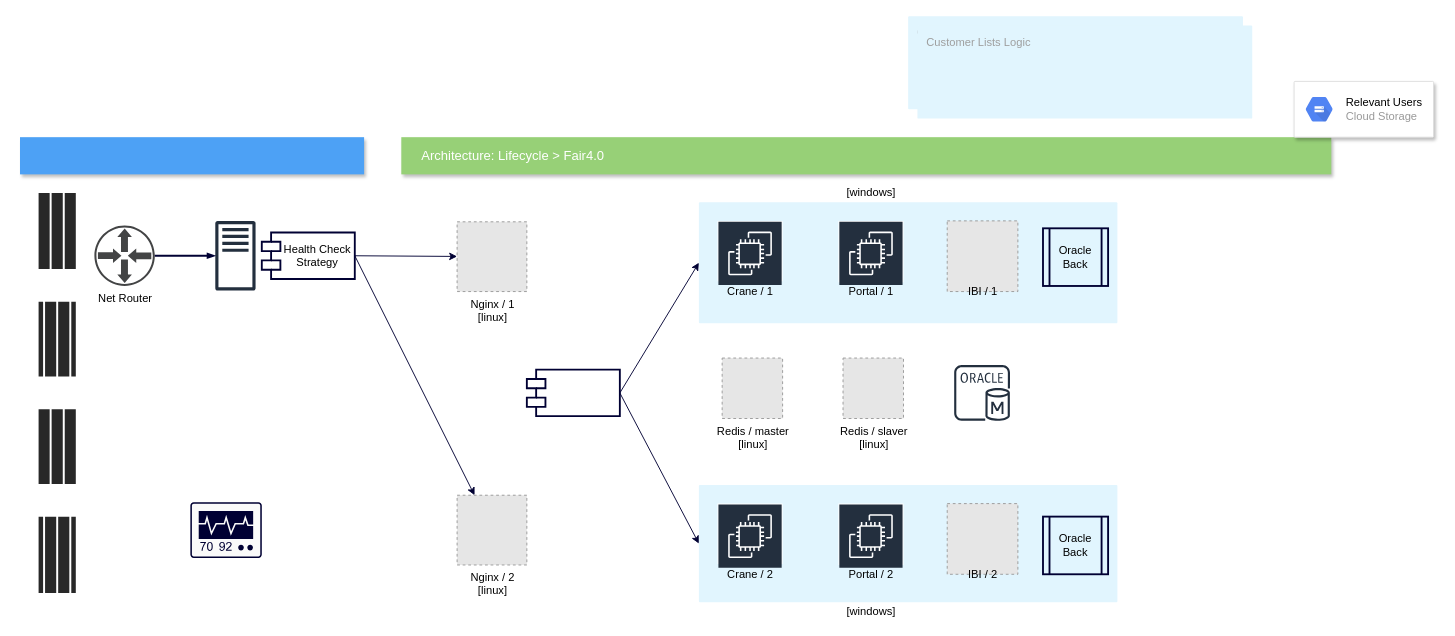
Image size: 1455x636. Some labels were removed from this diagram. Grey dashed boxes stand in for pictures. The centre of each missing label's shape, as x and y in pixels:
ADDR_HASH: (x=572, y=392)
Architecture: User Zone: (x=192, y=156)
Firewall: (x=56, y=392)
Indicator monitoring: (x=225, y=529)
Load Balance Server: (x=235, y=255)
Oracle [windows]: (x=981, y=392)
